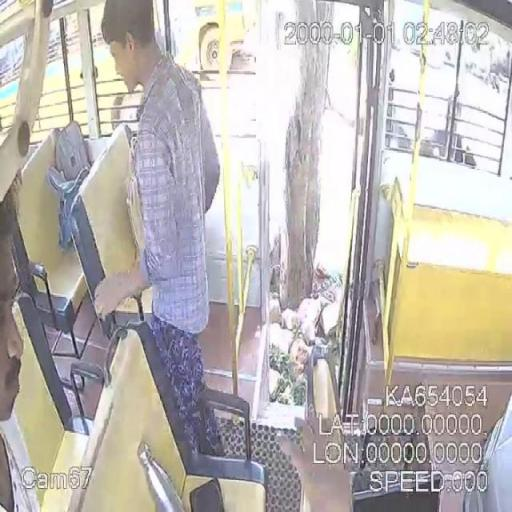persona: (92, 1, 222, 456)
